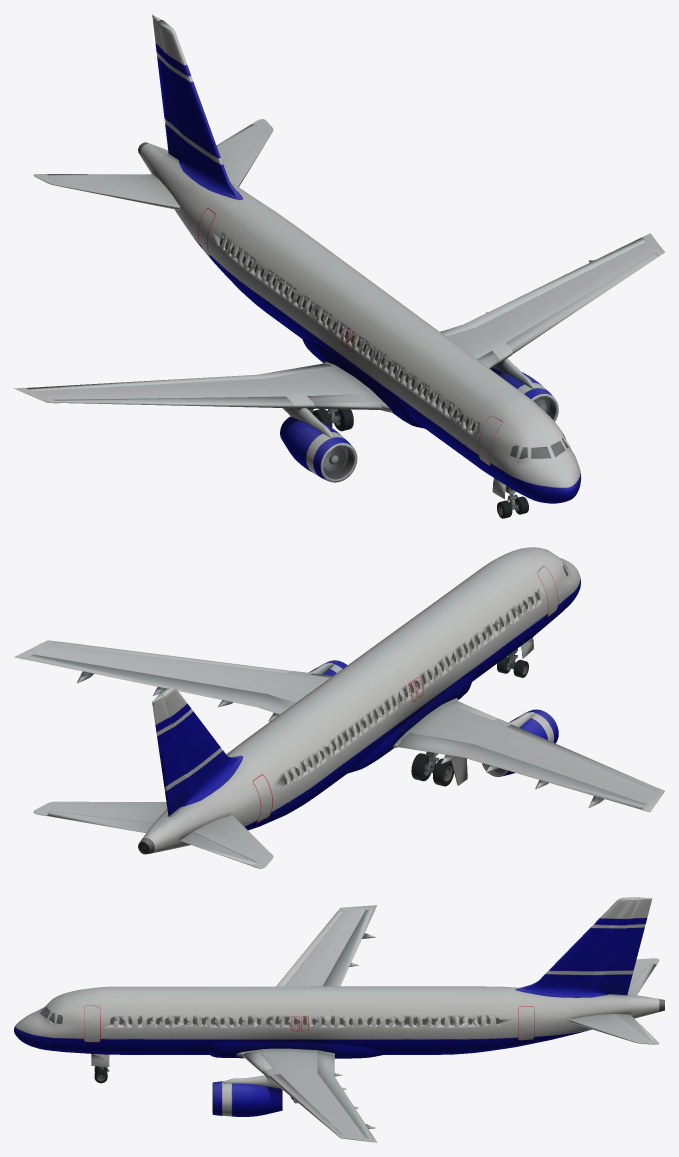
Rendered from airplane.glb.
3 renders of one model, top to bottom at view 1: azimuth 30°, elevation 25°; view 2: azimuth 150°, elevation 25°; view 3: azimuth 270°, elevation 25°, orthographic. The views are drawn at different scales.
Visible parts, largest first — view 1: airplane.1; view 2: airplane.1; view 3: airplane.1.
Part boxes in pixels (bbox=[...]): airplane.1: bbox=[14, 14, 664, 518]; airplane.1: bbox=[14, 547, 664, 868]; airplane.1: bbox=[14, 897, 664, 1142].
Size of the model in its own units: 1.82 by 0.6472 by 2.11.
1 material, 1 textured.
